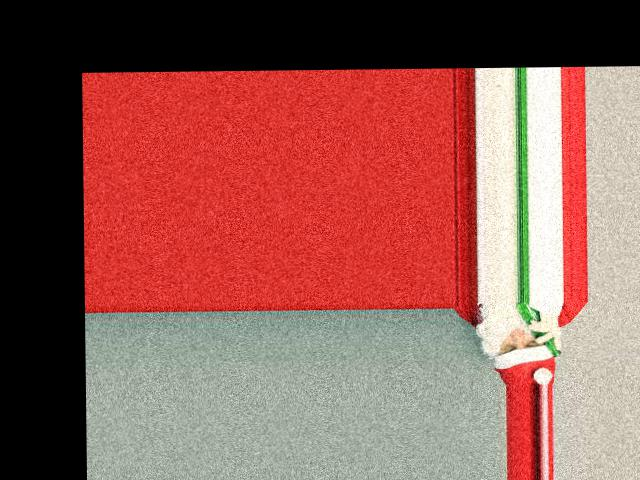beer: (517, 300, 562, 356)
